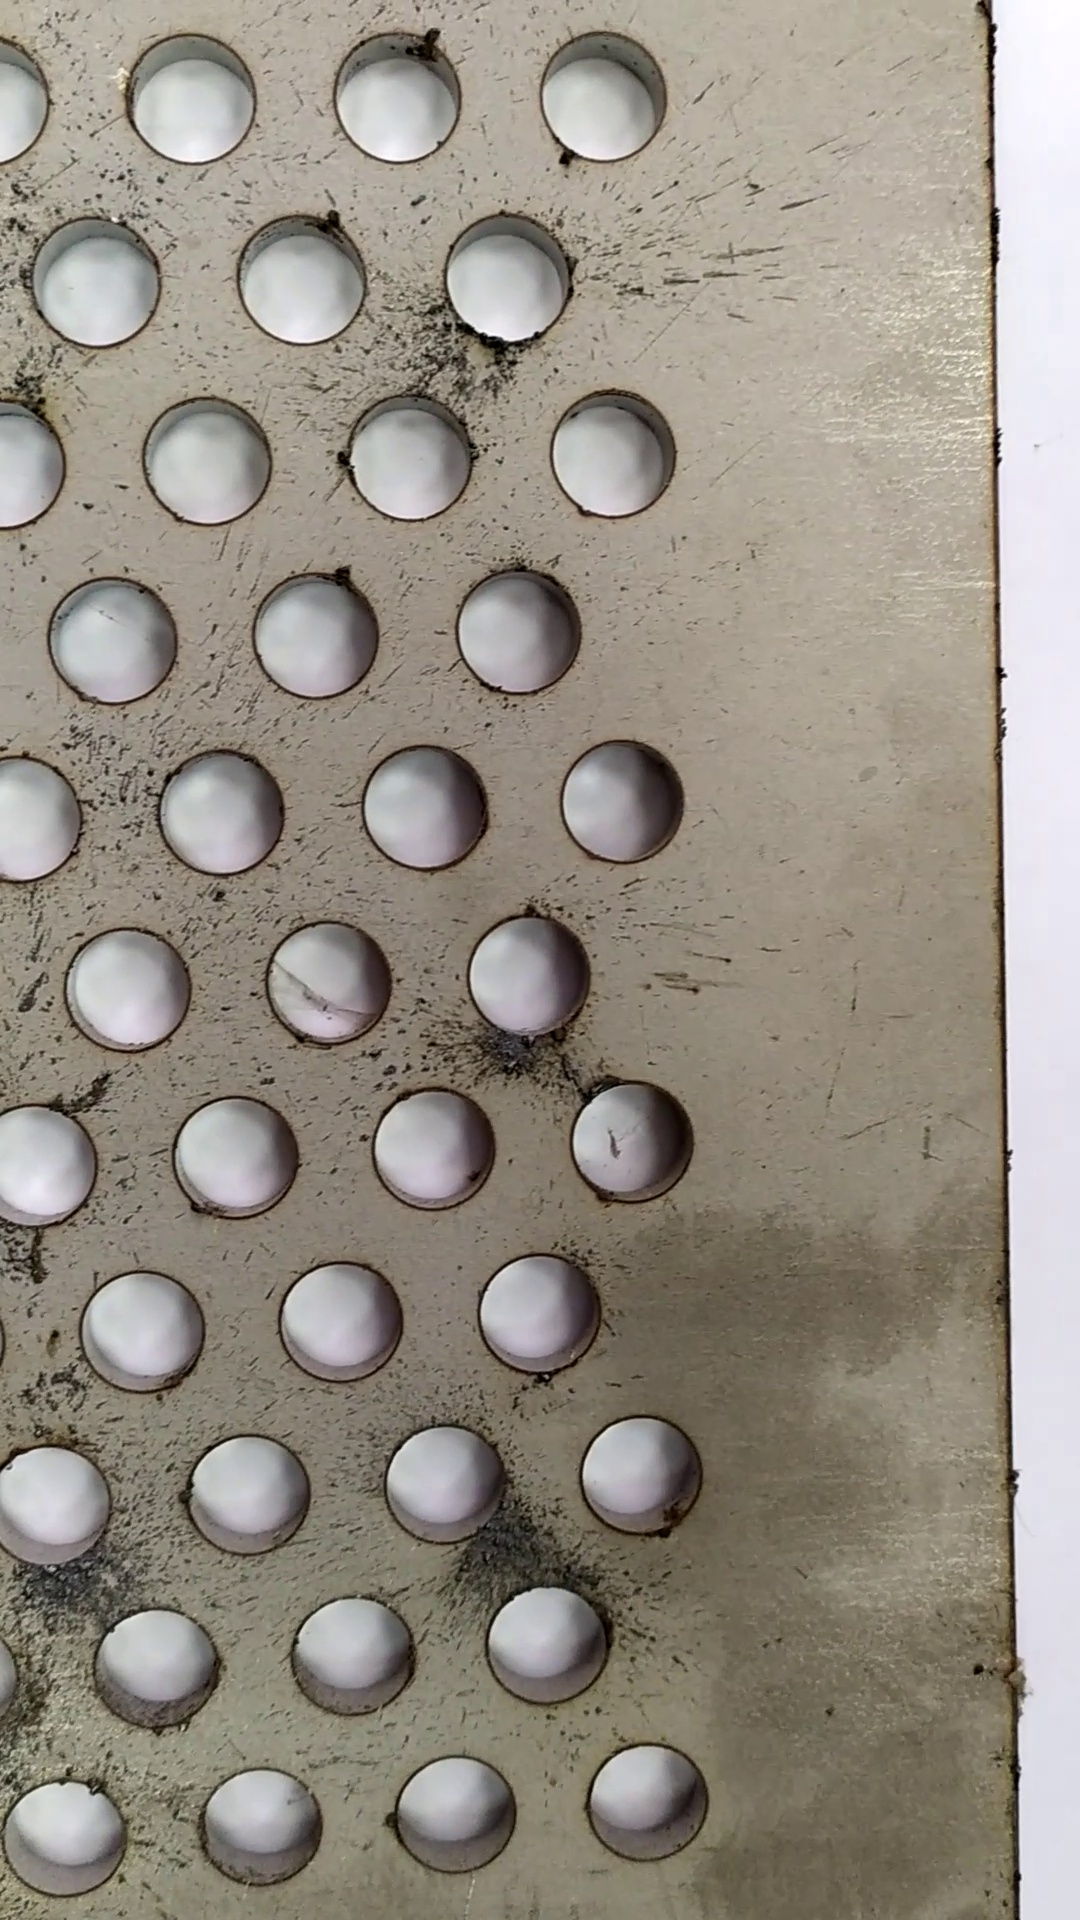Hole: (440, 562, 618, 703), (16, 204, 181, 353), (555, 719, 704, 884), (105, 28, 277, 170), (524, 20, 683, 171), (135, 735, 305, 876), (353, 727, 502, 887), (318, 22, 469, 175), (157, 1079, 313, 1228), (57, 920, 208, 1069), (567, 1404, 723, 1549), (438, 203, 589, 349), (257, 903, 402, 1056), (63, 1262, 224, 1399), (556, 1064, 704, 1213), (538, 378, 688, 524), (45, 575, 198, 717), (330, 389, 487, 527), (132, 393, 287, 531), (241, 564, 389, 709), (355, 1071, 500, 1217), (475, 1242, 624, 1385), (171, 1425, 324, 1564), (233, 204, 375, 353), (475, 1575, 622, 1716), (462, 909, 615, 1042), (189, 1760, 342, 1894), (575, 1730, 716, 1873), (272, 1255, 422, 1389), (4, 1766, 141, 1911), (373, 1411, 508, 1556), (281, 1585, 426, 1720), (382, 1742, 520, 1879), (88, 1611, 224, 1734)
